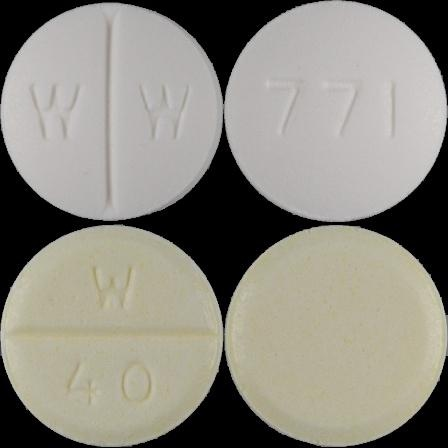63629-2573: (0, 0, 224, 224)
